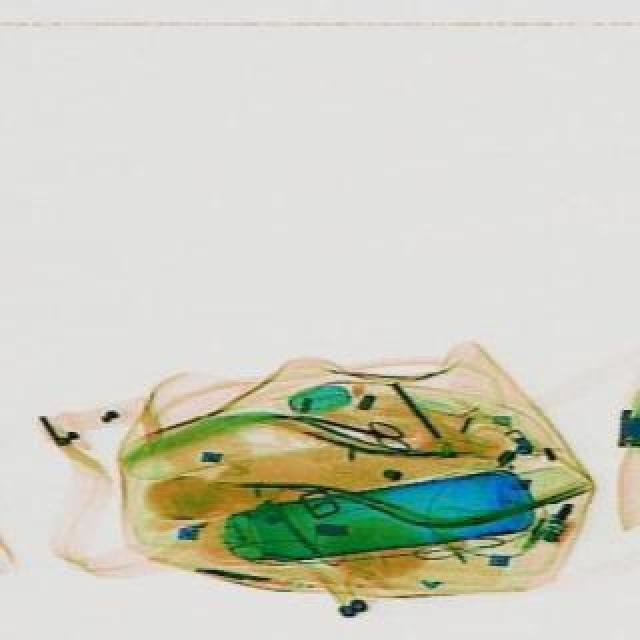pliers: (286, 404, 412, 456)
